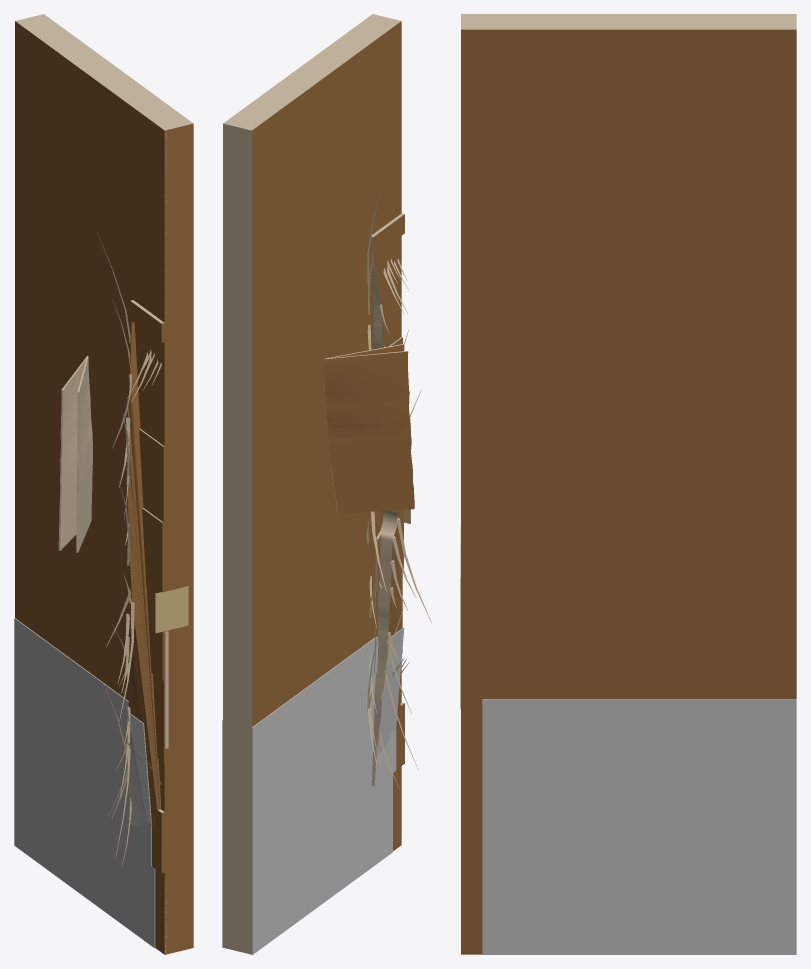
Rendered from Kit_DoorLeafBreak_Veneer_DA_M2.fbx.
3 views of the same model, side by side, from view 1: azimuth 30°, elevation 25°; view 2: azimuth 150°, elevation 25°; view 3: azimuth 270°, elevation 25° (orthographic). The views are drawn at different scales.
Visible parts, largest first — view 1: cas_D1_L0, cas_D1_L2, cas_D2_L0, armor_D1_L0, cas_M_L0, cas_TORN_L2, armor_D2_L0, armor_M_L0, cas_TORN_L0, cas_D2_L2, armor_D2_L1, cas_D2_L1 (+5 smaller); view 2: cas_D1_L0, cas_D2_L0, cas_D2_L2, armor_D1_L0, cas_TORN_L0, cas_D1_L2, armor_M_L0, cas_M_L0, cas_TORN_L2, armor_TORN_L0, cas_D2_L1, armor_D2_L0 (+5 smaller); view 3: cas_D1_L0, cas_D1_L2, cas_D2_L0, cas_M_L0, armor_D1_L0, armor_M_L0, armor_D1_L1, cas_TORN_L0, armor_D2_L0, armor_D2_L1, cas_D2_L2, cas_TORN_L2 (+4 smaller).
Part boxes in pixels (<box>): cas_D1_L0: <box>15,14,193,954</box>; cas_D1_L2: <box>15,23,193,954</box>; cas_D2_L0: <box>15,14,193,954</box>; armor_D1_L0: <box>14,618,155,947</box>; cas_M_L0: <box>15,29,193,952</box>; cas_TORN_L2: <box>15,27,193,950</box>; armor_D2_L0: <box>14,620,155,948</box>; armor_M_L0: <box>14,621,155,946</box>; cas_TORN_L0: <box>15,22,193,953</box>; cas_D2_L2: <box>15,30,193,950</box>; armor_D2_L1: <box>14,620,150,849</box>; cas_D2_L1: <box>47,298,160,827</box>; cas_D1_L0: <box>223,14,403,954</box>; cas_D2_L0: <box>223,14,431,954</box>; cas_D2_L2: <box>252,133,377,767</box>; armor_D1_L0: <box>222,636,392,954</box>; cas_TORN_L0: <box>252,24,414,846</box>; cas_D1_L2: <box>252,22,401,850</box>; armor_M_L0: <box>252,638,392,952</box>; cas_M_L0: <box>252,25,401,844</box>; cas_TORN_L2: <box>252,33,401,846</box>; armor_TORN_L0: <box>257,717,396,949</box>; cas_D2_L1: <box>284,243,416,777</box>; armor_D2_L0: <box>252,627,404,954</box>; cas_D1_L0: <box>460,14,796,954</box>; cas_D1_L2: <box>461,30,796,954</box>; cas_D2_L0: <box>460,14,796,954</box>; cas_M_L0: <box>460,29,796,953</box>; armor_D1_L0: <box>482,699,796,954</box>; armor_M_L0: <box>482,699,796,954</box>; armor_D1_L1: <box>524,699,796,954</box>; cas_TORN_L0: <box>461,30,796,954</box>; armor_D2_L0: <box>482,699,796,954</box>; armor_D2_L1: <box>529,699,796,952</box>; cas_D2_L2: <box>531,246,699,699</box>; cas_TORN_L2: <box>461,29,788,950</box>.
Bounding box in the file's own units: 0.136 × 1.2 × 0.3958.
